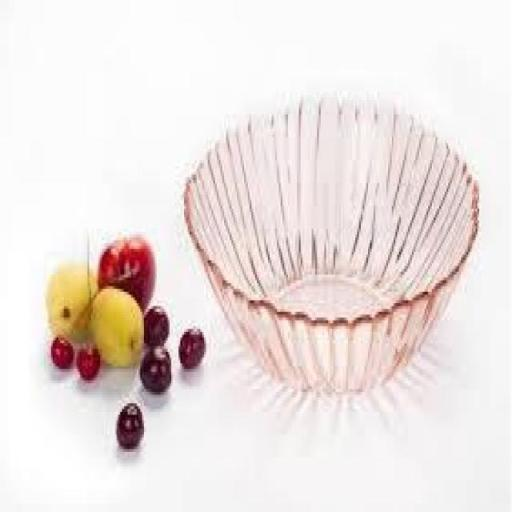glass: (182, 96, 482, 396)
